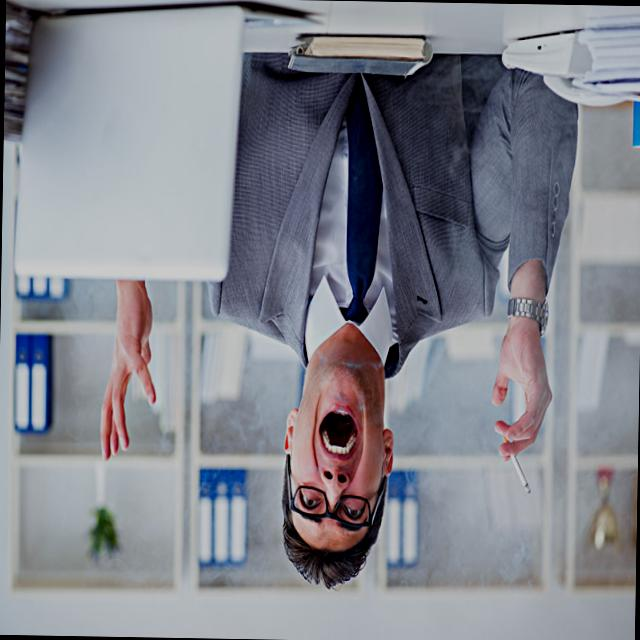cigarette: (508, 451, 534, 495)
